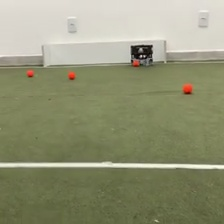ball: (181, 81, 192, 93), (67, 71, 75, 79), (132, 58, 139, 66), (26, 70, 33, 77)
goal: (40, 37, 167, 70)
robot: (130, 43, 154, 67)
